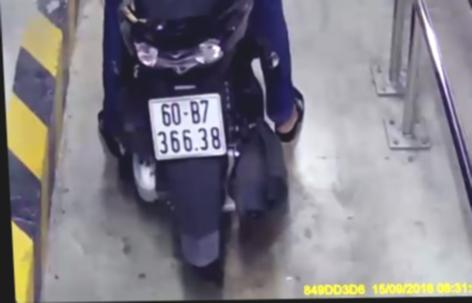License_Plate: (139, 91, 235, 164)
